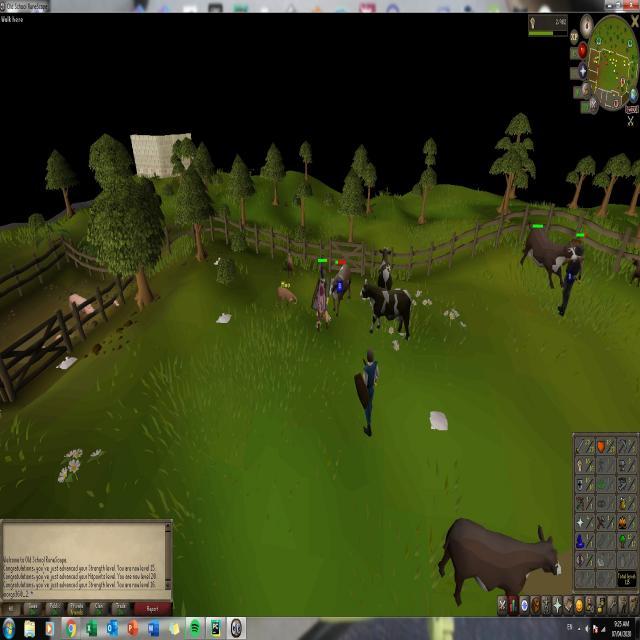cow: (438, 508, 562, 592), (358, 278, 413, 341), (518, 219, 566, 291), (328, 258, 352, 317), (376, 244, 394, 291)
